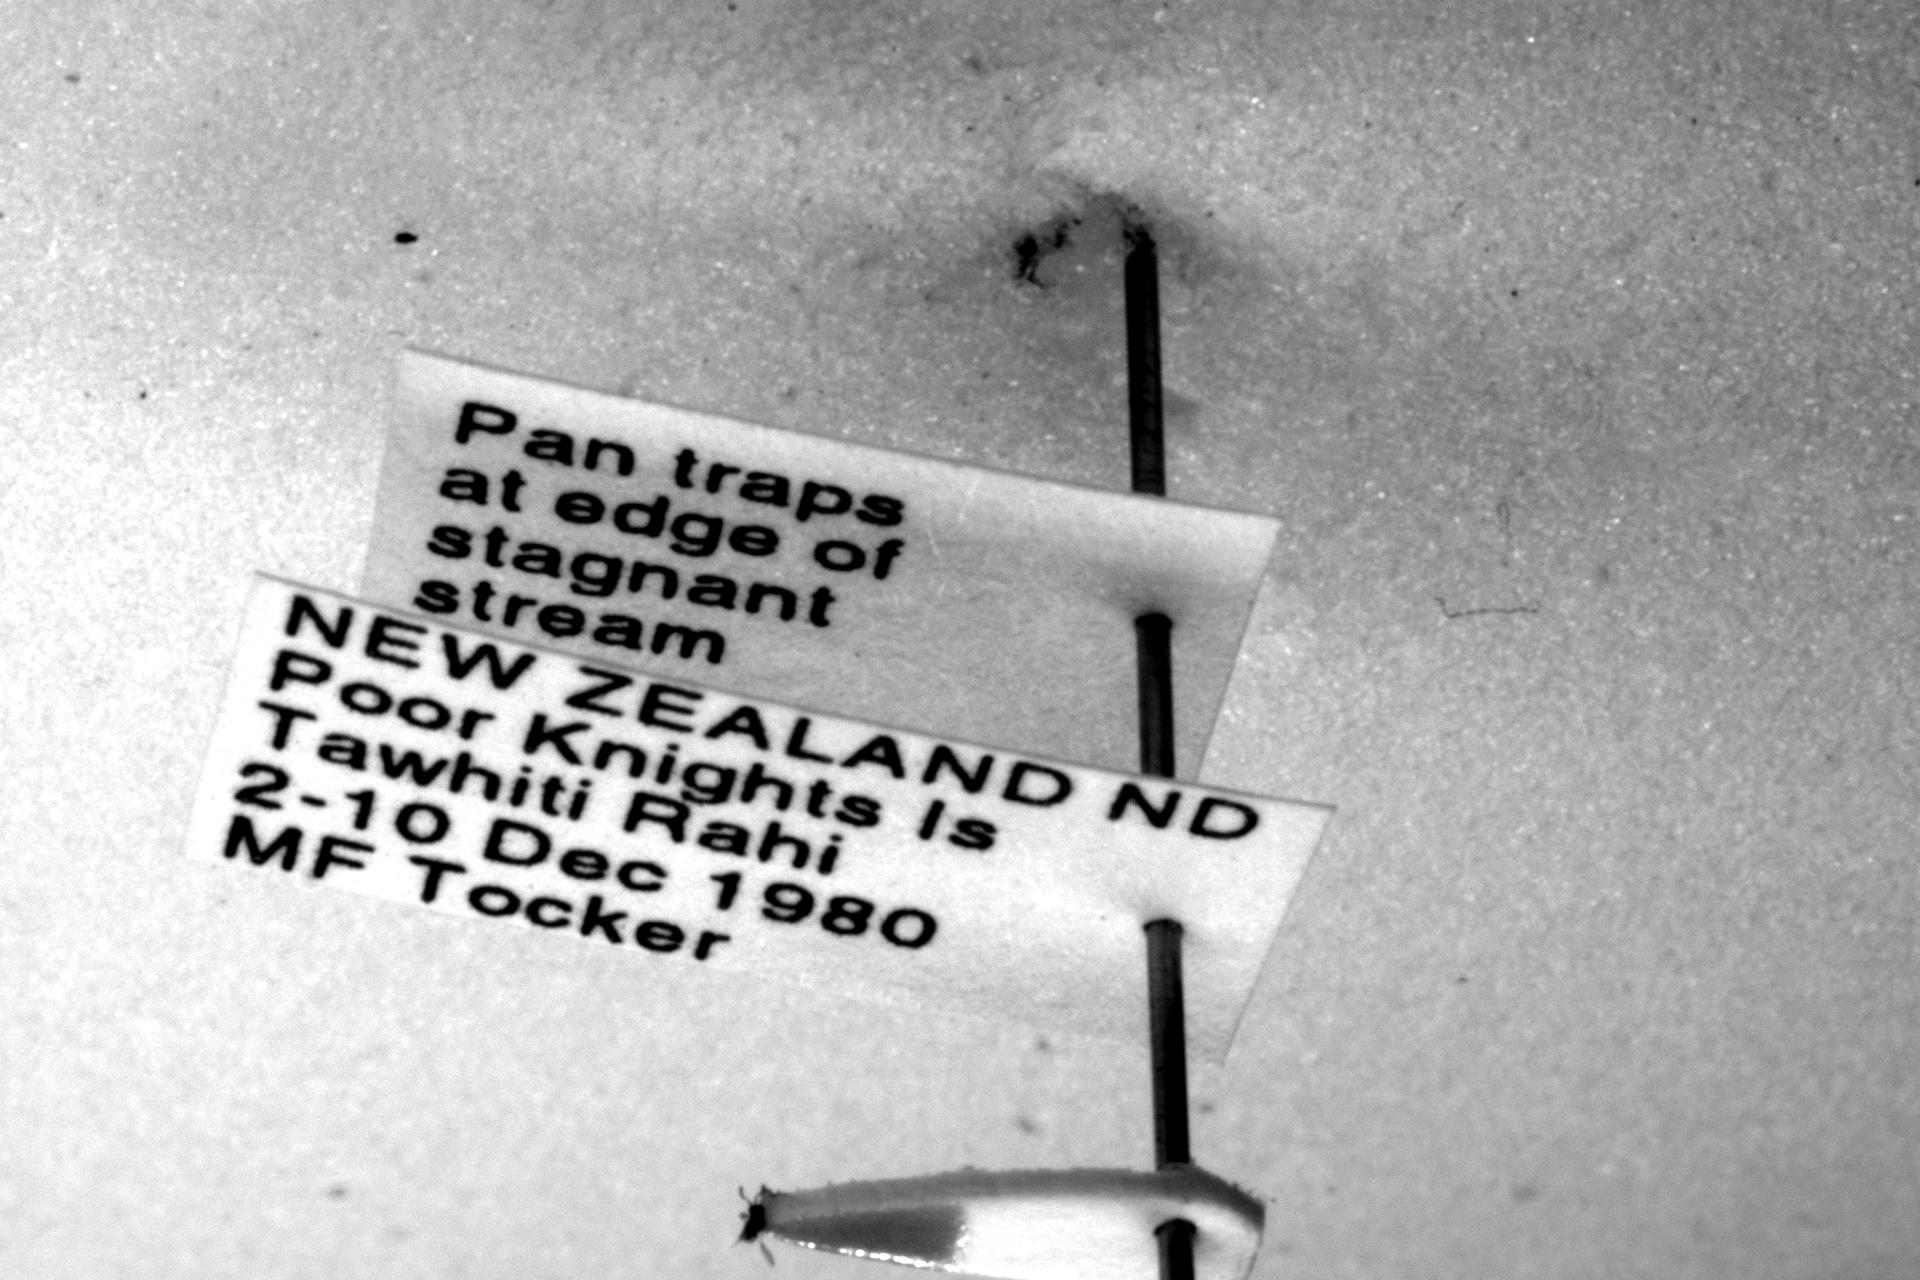typed_label: (184, 578, 1328, 1061), (364, 349, 1279, 780)
